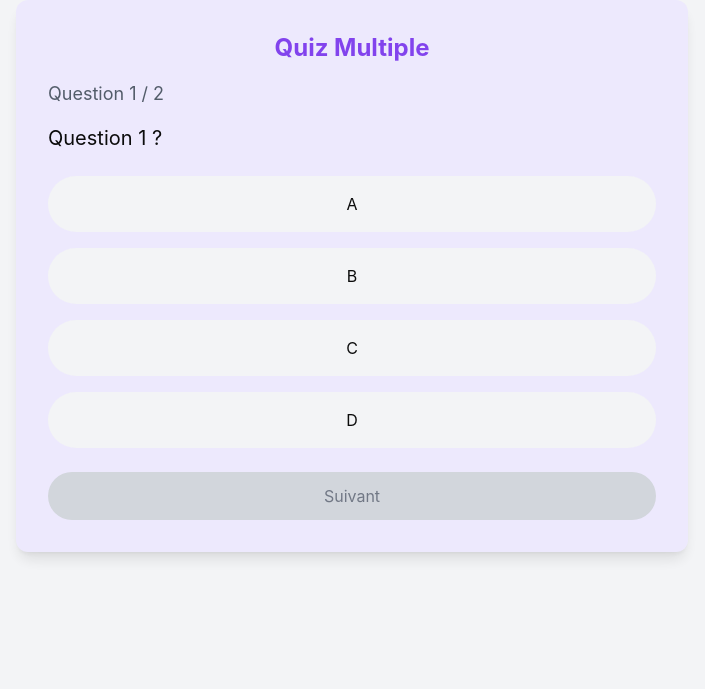
Test: <Quiz /> › Quiz avec plusieurs questions › calcule le score final correctement
Expected: the heading "Quiz Multiple" is shown, [274,33,429,62]
// Répondre correctement aux 2 questions
Click the button "A" at (352, 204), box [48,176,656,232]
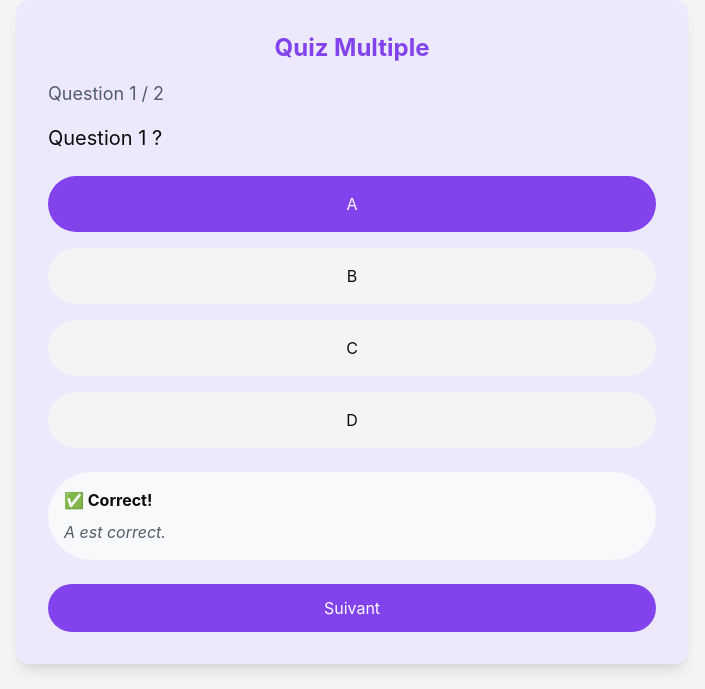
Click the button "Suivant" at (352, 608), box [48,584,656,632]
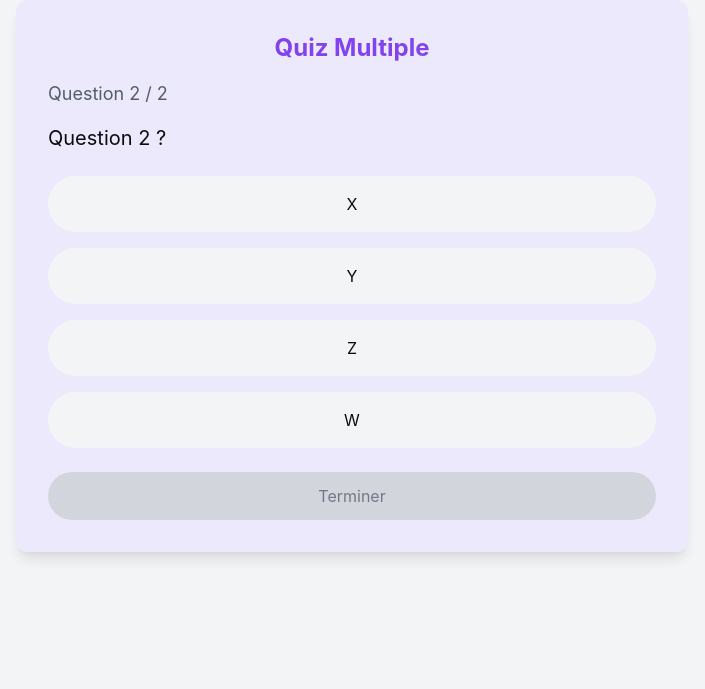
Click the button "Y" at (352, 276), box [48,248,656,304]
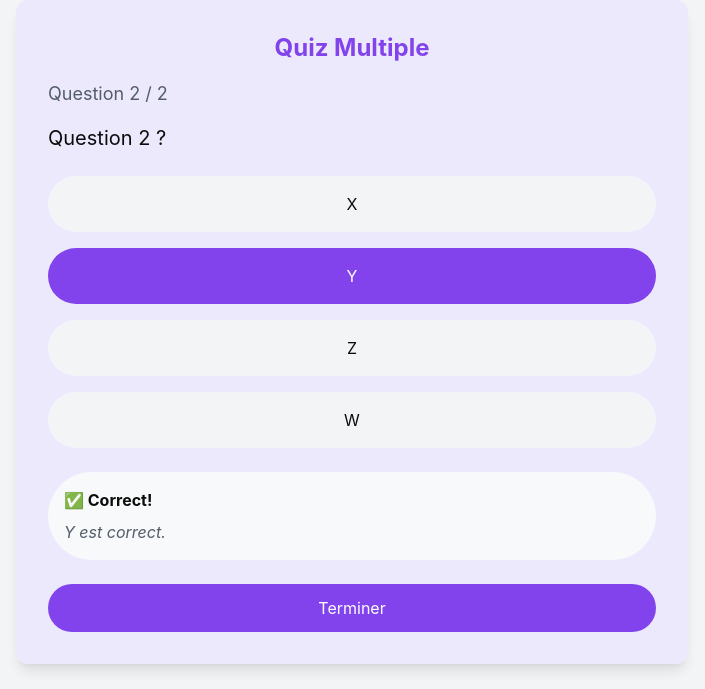
Click the button "Terminer" at (352, 608), box [48,584,656,632]
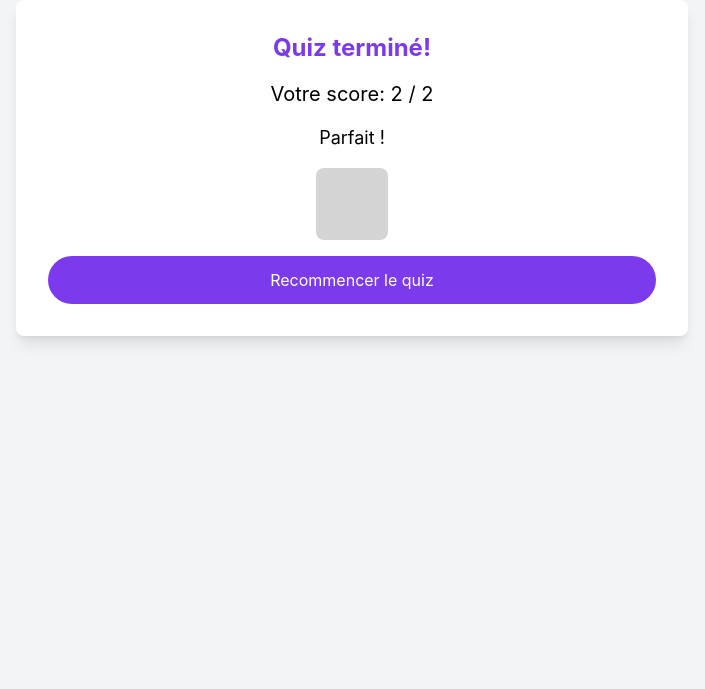
Now the heading "Quiz terminé!" is shown, box [273,33,431,62]
Now the text "Votre score: 2 / 2" is shown, box [270,82,433,106]
Now the text "Parfait !" is shown, box [319,127,385,148]
